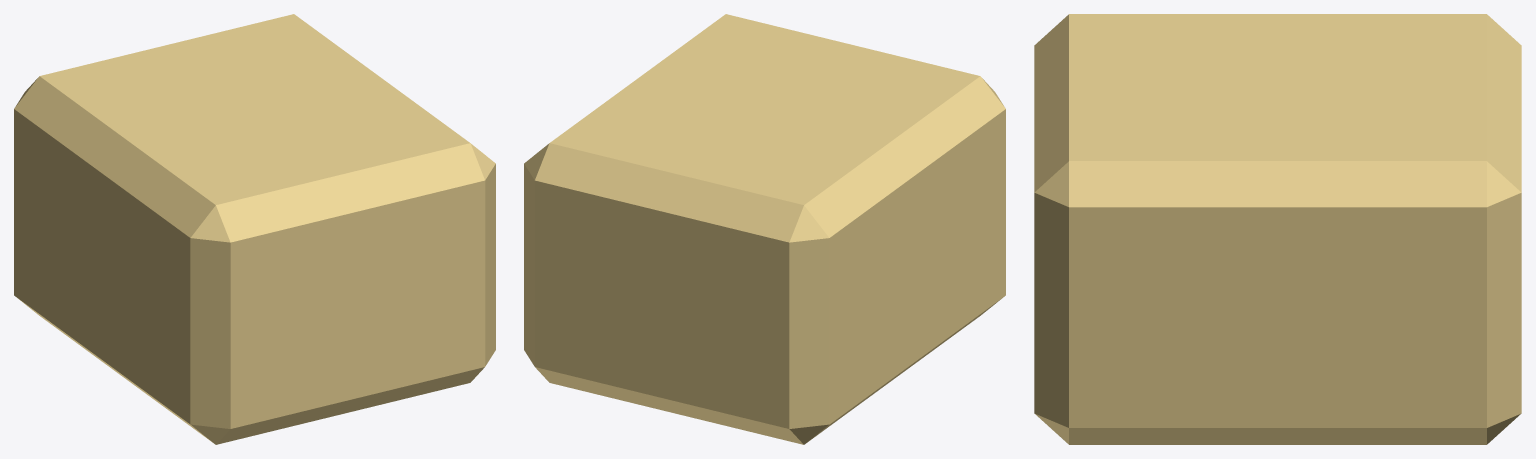
File: dent_port.glb
3 renders of one model, left to right at view 1: azimuth 30°, elevation 25°; view 2: azimuth 150°, elevation 25°; view 3: azimuth 270°, elevation 25°, orthographic. The views are drawn at different scales.
Parts seen in each view (by area): view 1: dent_port; view 2: dent_port; view 3: dent_port.
Boxes of the visible parts, x1,y1,x2,y2 form: dent_port: (14, 14, 495, 444); dent_port: (524, 14, 1005, 444); dent_port: (1034, 14, 1521, 444).
Size of the model in its own units: 0.24 by 0.18 by 0.28.
